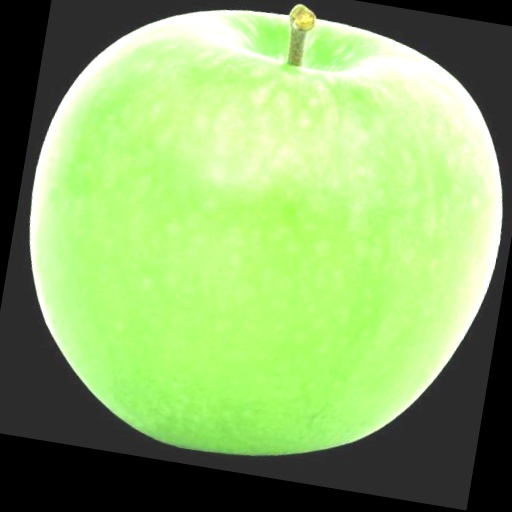fruit: (30, 11, 501, 454)
